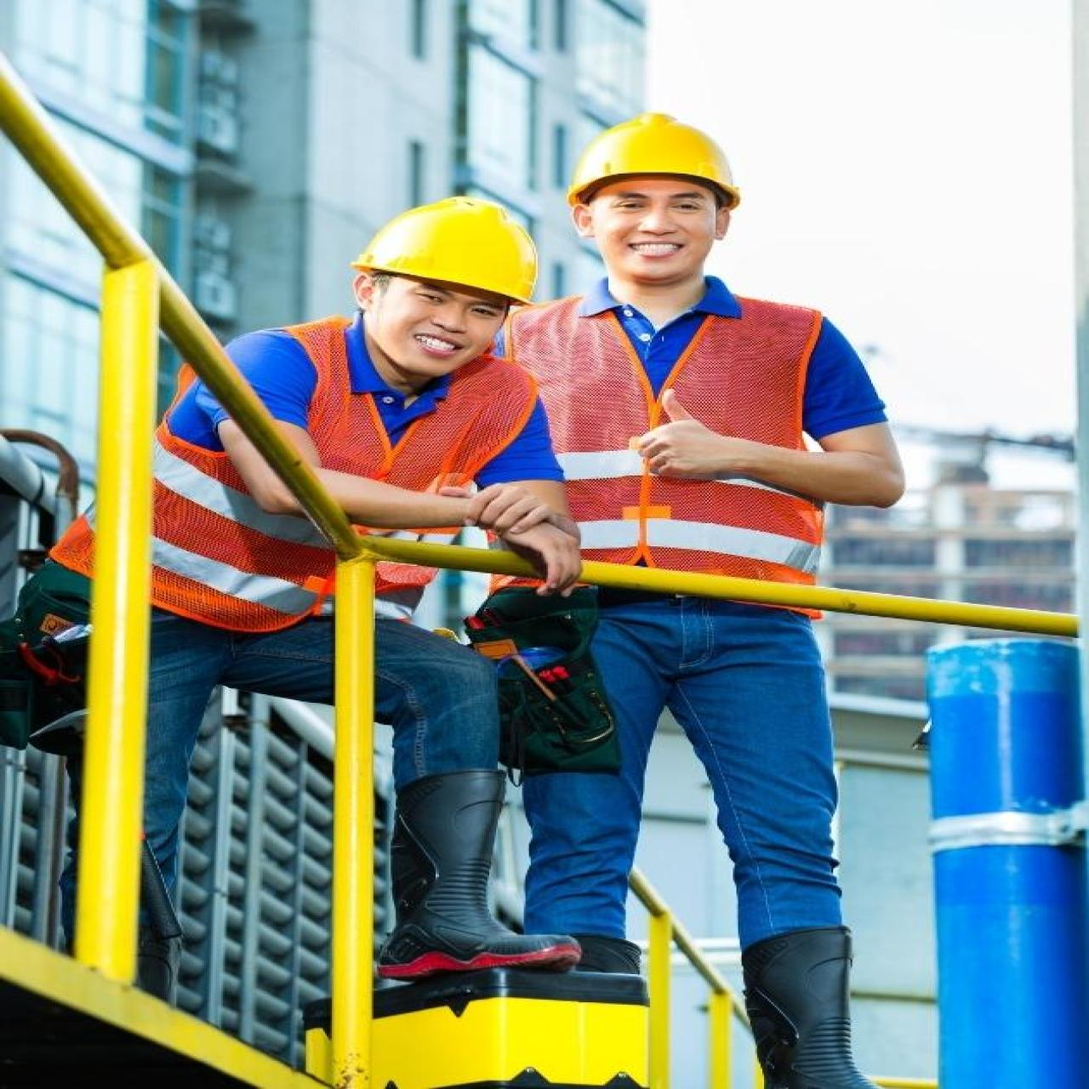Person: (22, 163, 607, 988), (486, 91, 932, 1089)
Safety_Vest: (44, 313, 531, 654), (501, 290, 862, 628)
